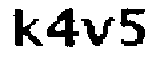4: (43, 4, 80, 47)
5: (115, 3, 149, 49)
k: (7, 4, 42, 49)
v: (80, 14, 114, 49)
